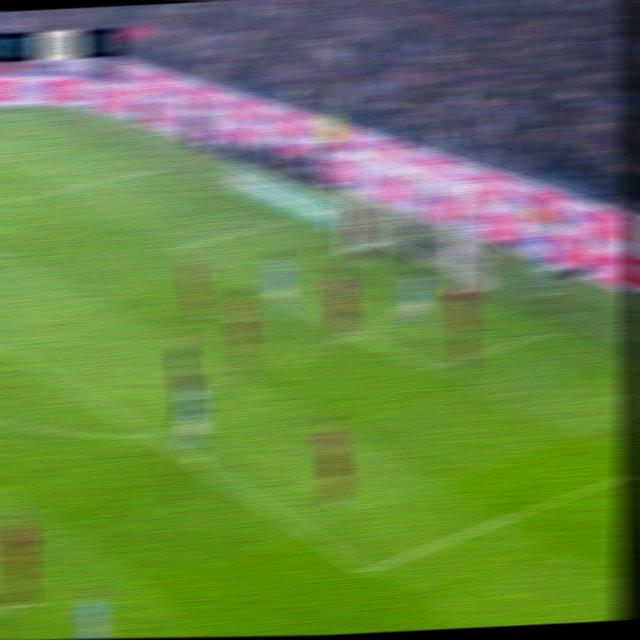bigarea_bottom_inner: (352, 556, 379, 584)
bigarea_top_outter: (142, 161, 164, 175)
bottom_arc_area_intersection: (136, 425, 160, 443)
corner: (6, 105, 38, 118)
smallarea_bottom_inner: (417, 357, 442, 378)
smallarea_bottom_outter: (529, 323, 552, 341)
smallarea_top_inner: (167, 242, 190, 257)
smallarea_top_outter: (266, 216, 285, 228)
